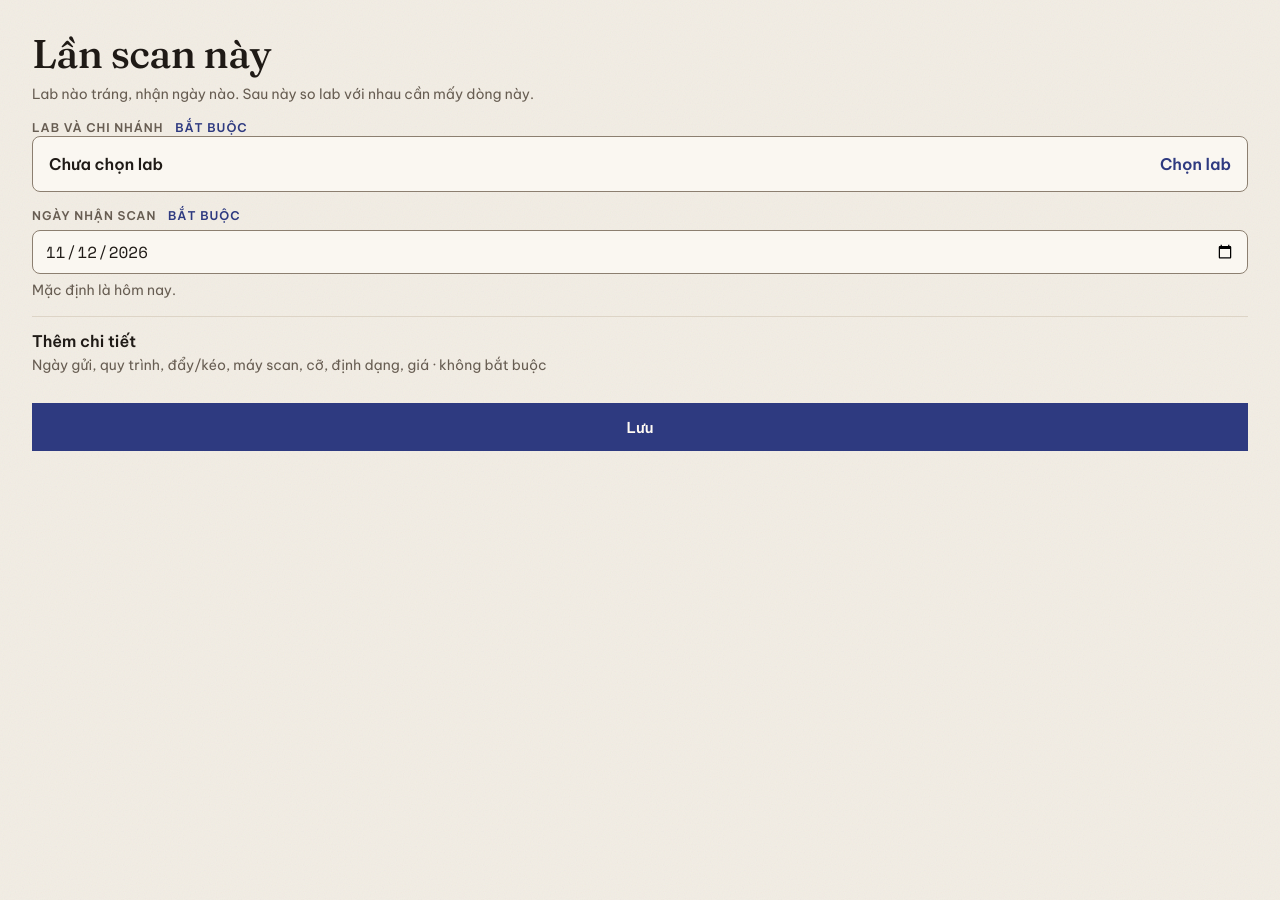
Test: ScanSetForm (LAB-3, ScanSetForm board) › defaults the received date to today and push/pull to the roll's
The width and height of the screenshot is (1280, 900).
expect the date field labelled "Ngày nhận scan Bắt buộc" holds "2026-11-12": met, box x1=32 y1=230 x2=1248 y2=274
What coordinates should you click on to do the following:
click the button "Thêm chi tiết"
I would click on:
 (84, 341)
Its box is x1=32 y1=316 x2=1248 y2=387.
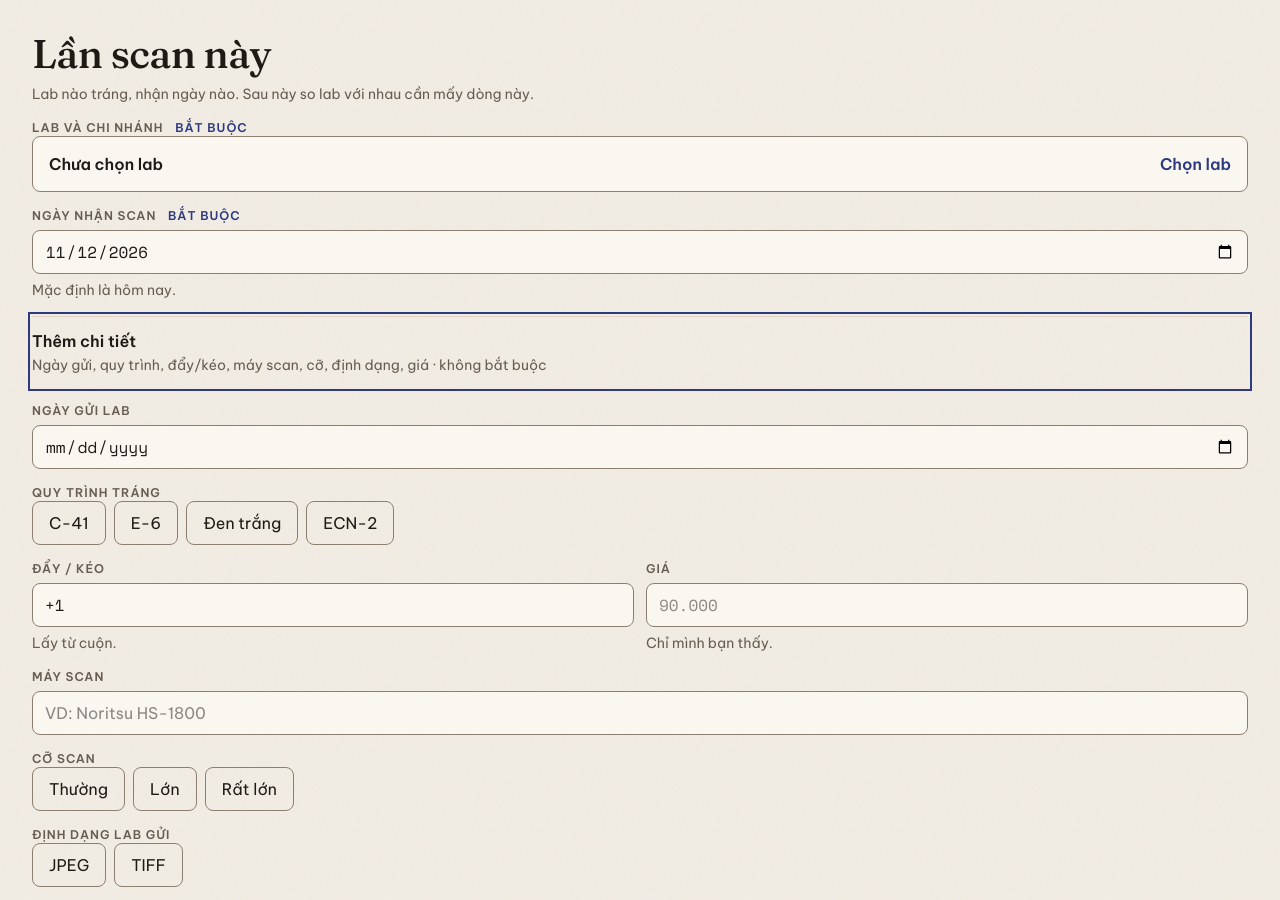
expect the field labelled "Đẩy / kéo" holds "+1": met, box x1=32 y1=583 x2=634 y2=627
